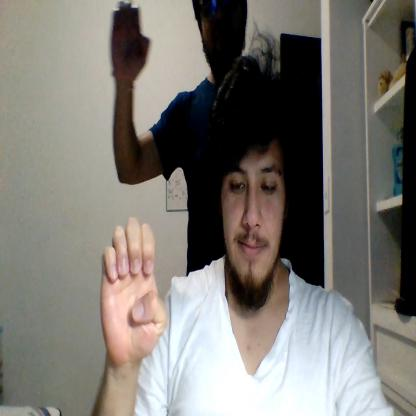E: (100, 216, 167, 361)
